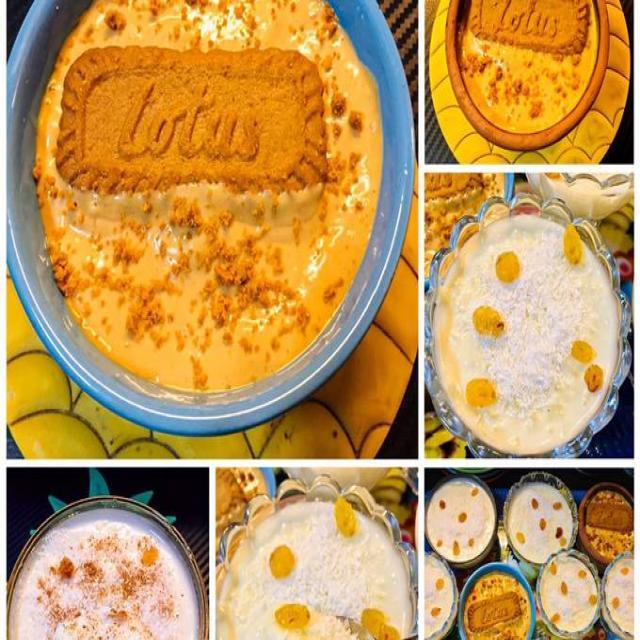roz blabn: (424, 202, 628, 454), (3, 491, 207, 640)
